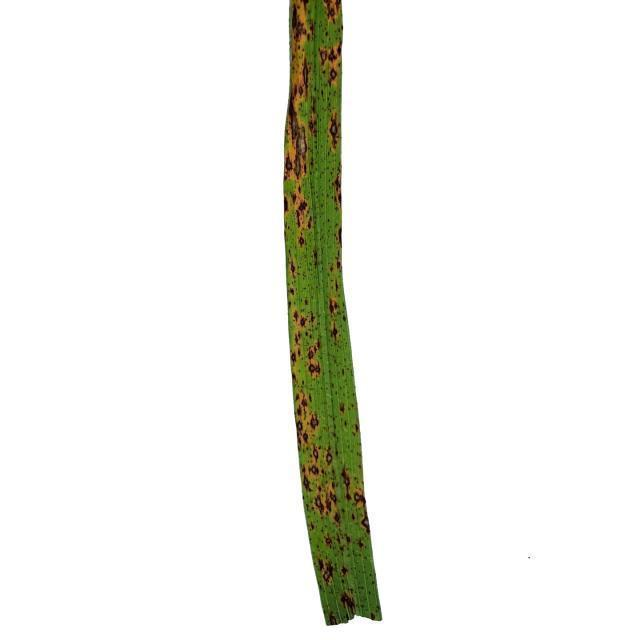Leaf_Blast: (313, 465, 359, 559), (291, 374, 336, 465), (290, 305, 328, 378), (285, 179, 310, 256), (290, 104, 307, 182), (290, 2, 311, 38), (325, 555, 336, 623), (300, 58, 314, 90), (340, 595, 364, 612), (325, 0, 341, 25), (327, 117, 339, 149), (318, 48, 332, 66), (328, 67, 338, 85)
